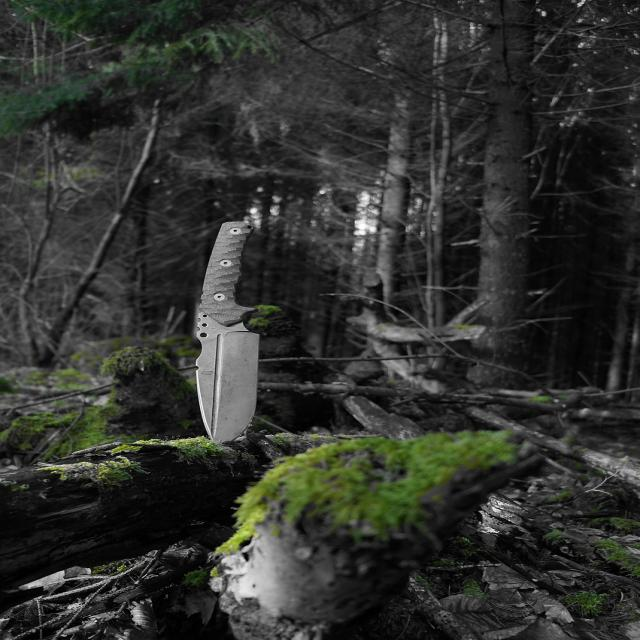knife: (195, 221, 258, 442)
